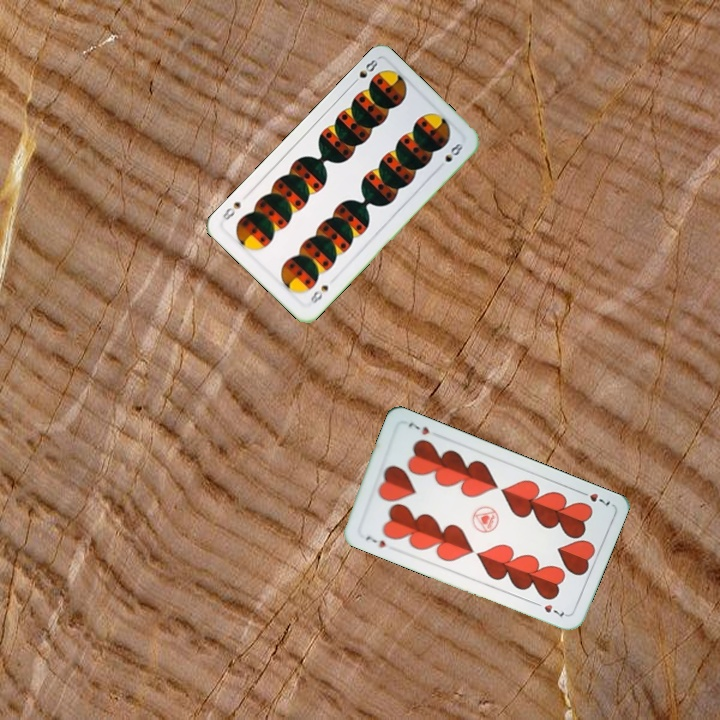H7: (575, 487, 613, 508), (361, 531, 388, 550)
S8: (347, 55, 381, 88), (306, 281, 331, 307)
